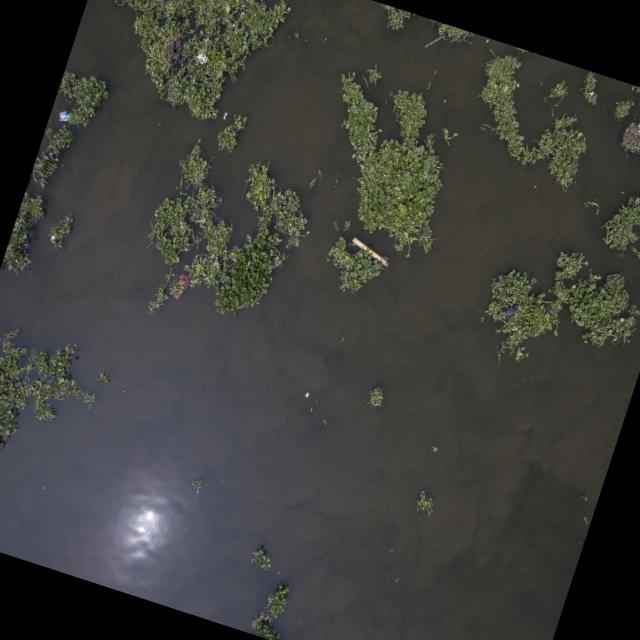Plastic: (194, 51, 211, 68), (219, 106, 231, 124), (504, 304, 517, 319), (57, 110, 70, 122)
